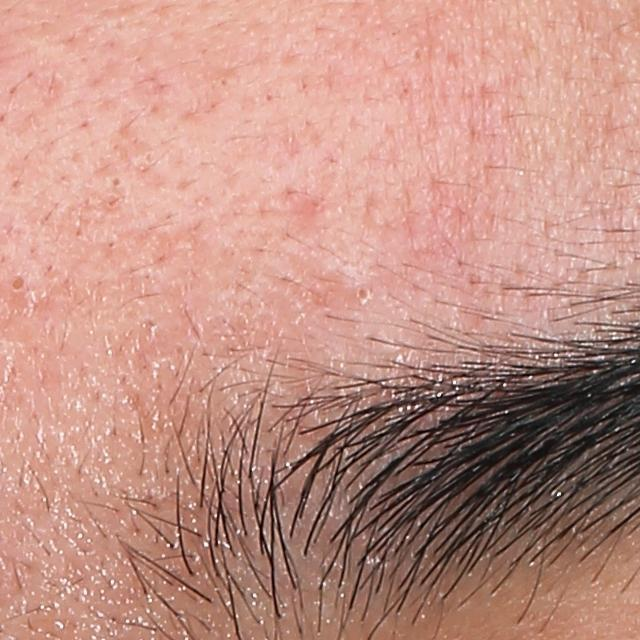comedo: (106, 173, 127, 192)
